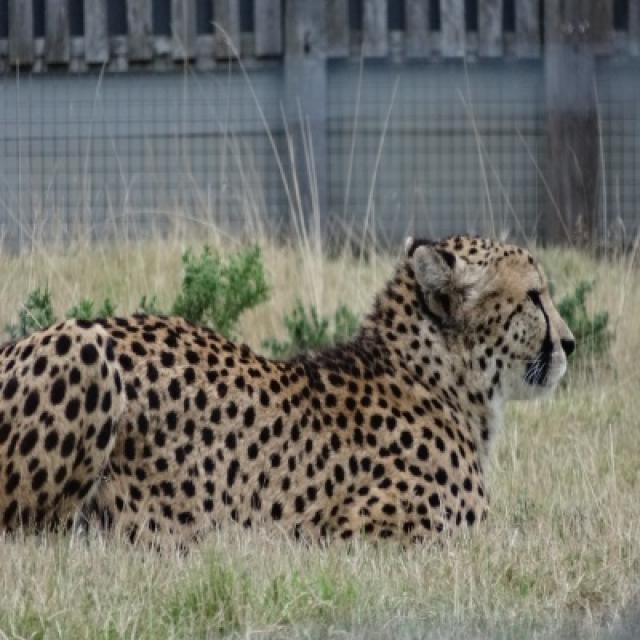Cheetah: (0, 234, 578, 554)
